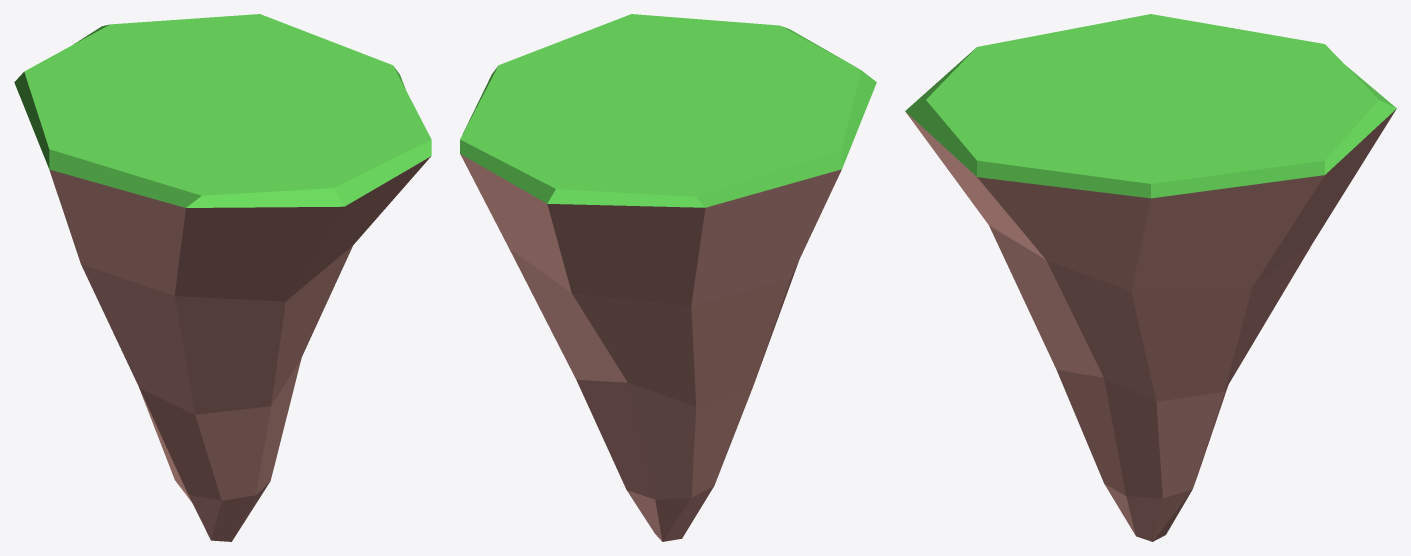
File: island3-transformed.glb
The picture shows the model from 3 angles, left to right: view 1: azimuth 30°, elevation 25°; view 2: azimuth 150°, elevation 25°; view 3: azimuth 270°, elevation 25°; orthographic projection.
Visible parts, largest first — view 1: Island03_Cylinder; view 2: Island03_Cylinder; view 3: Island03_Cylinder.
Boxes of the visible parts, box(x1,y1,x2,y2) form: Island03_Cylinder: box(14, 14, 431, 541); Island03_Cylinder: box(460, 14, 876, 541); Island03_Cylinder: box(905, 14, 1396, 541).
Bounding box in the file's own units: 1.2 × 1.41 × 1.44.
